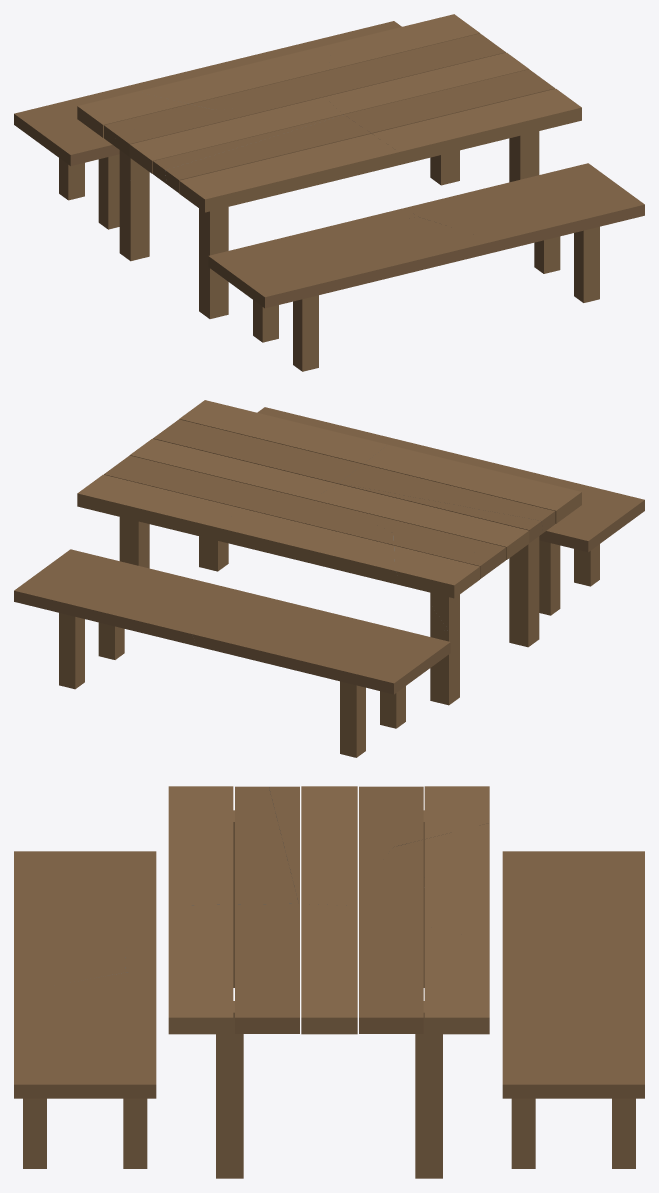
The model's file is Bench_03 Fracture.fbx.
The picture shows the model from 3 angles, top to bottom: view 1: azimuth 30°, elevation 25°; view 2: azimuth 150°, elevation 25°; view 3: azimuth 270°, elevation 25°; orthographic projection. The views are drawn at different scales.
Visible parts, largest first — view 1: Bench_03_cell.001, Bench_03_cell.006, Bench_03_cell.002, Bench_03_cell.007, Bench_03_cell, Bench_03_cell.005, Bench_03_cell.004, Bench_03_cell.003, Bench_03_cell.009, Bench_03_cell.008; view 2: Bench_03_cell.001, Bench_03_cell.009, Bench_03_cell.007, Bench_03_cell.006, Bench_03_cell, Bench_03_cell.003, Bench_03_cell.002, Bench_03_cell.005, Bench_03_cell.008, Bench_03_cell.004; view 3: Bench_03_cell.001, Bench_03_cell.009, Bench_03_cell.007, Bench_03_cell.006, Bench_03_cell.002, Bench_03_cell, Bench_03_cell.003, Bench_03_cell.005, Bench_03_cell.008.
Part boxes in pixels (bbox=[...]): Bench_03_cell.001: bbox=[328, 14, 644, 302]; Bench_03_cell.006: bbox=[165, 115, 417, 318]; Bench_03_cell.002: bbox=[217, 217, 496, 371]; Bench_03_cell.007: bbox=[42, 48, 330, 207]; Bench_03_cell: bbox=[115, 100, 343, 183]; Bench_03_cell.005: bbox=[59, 91, 213, 180]; Bench_03_cell.004: bbox=[98, 172, 149, 261]; Bench_03_cell.003: bbox=[49, 64, 224, 200]; Bench_03_cell.009: bbox=[216, 21, 459, 185]; Bench_03_cell.008: bbox=[14, 95, 88, 188]; Bench_03_cell.001: bbox=[77, 400, 414, 571]; Bench_03_cell.009: bbox=[14, 509, 229, 689]; Bench_03_cell.007: bbox=[215, 496, 448, 715]; Bench_03_cell.006: bbox=[339, 444, 598, 647]; Bench_03_cell: bbox=[317, 483, 542, 570]; Bench_03_cell.003: bbox=[192, 606, 412, 757]; Bench_03_cell.002: bbox=[412, 443, 644, 615]; Bench_03_cell.005: bbox=[393, 533, 492, 654]; Bench_03_cell.008: bbox=[319, 661, 422, 754]; Bench_03_cell.004: bbox=[380, 617, 459, 728]; Bench_03_cell.001: bbox=[14, 903, 489, 1178]; Bench_03_cell.009: bbox=[415, 933, 644, 1178]; Bench_03_cell.007: bbox=[347, 823, 575, 986]; Bench_03_cell.006: bbox=[125, 786, 298, 987]; Bench_03_cell.002: bbox=[14, 851, 129, 992]; Bench_03_cell: bbox=[269, 786, 392, 905]; Bench_03_cell.003: bbox=[556, 856, 644, 979]; Bench_03_cell.005: bbox=[392, 786, 529, 877]; Bench_03_cell.008: bbox=[573, 851, 644, 896].
Size of the model in its own units: 209 by 73.49 by 239.
